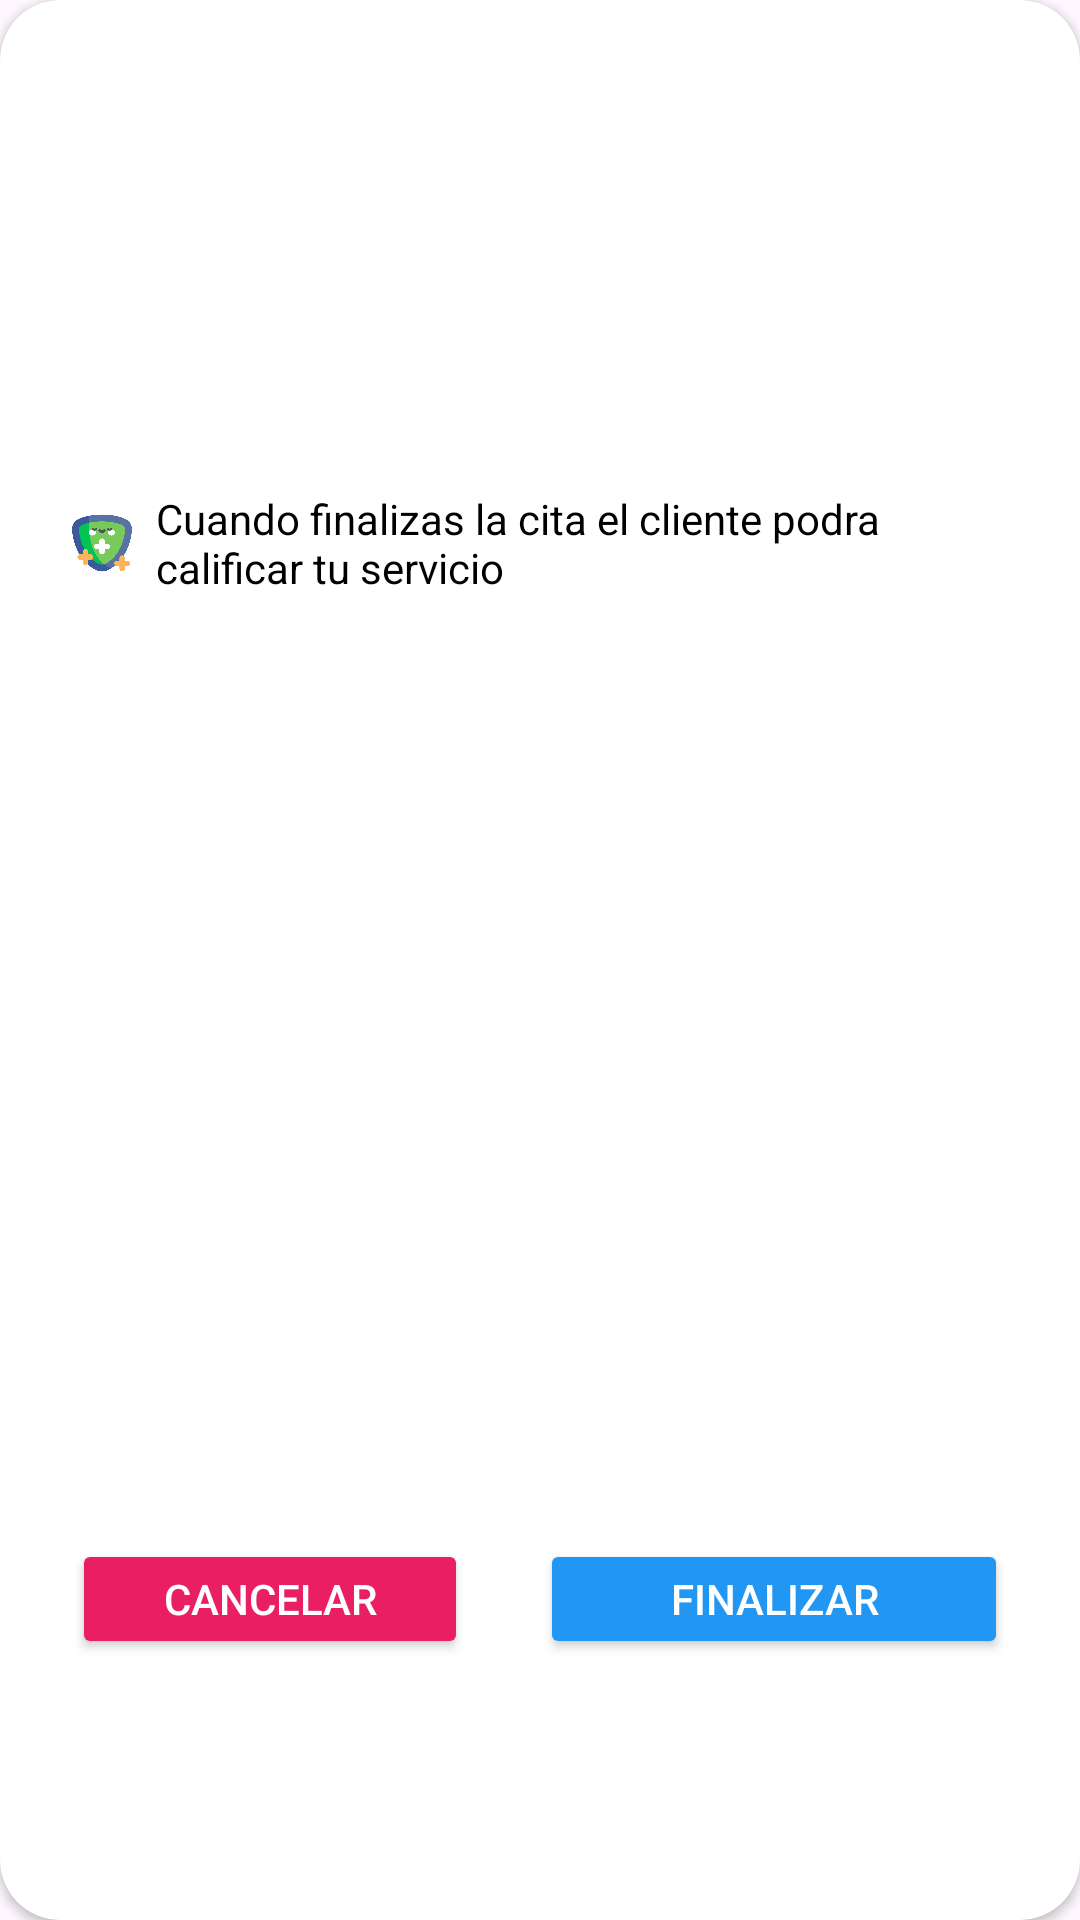

Where to tap for icons on this 1080px×1920px app screen, as (x,y):
atencion realizada: (102,543)
